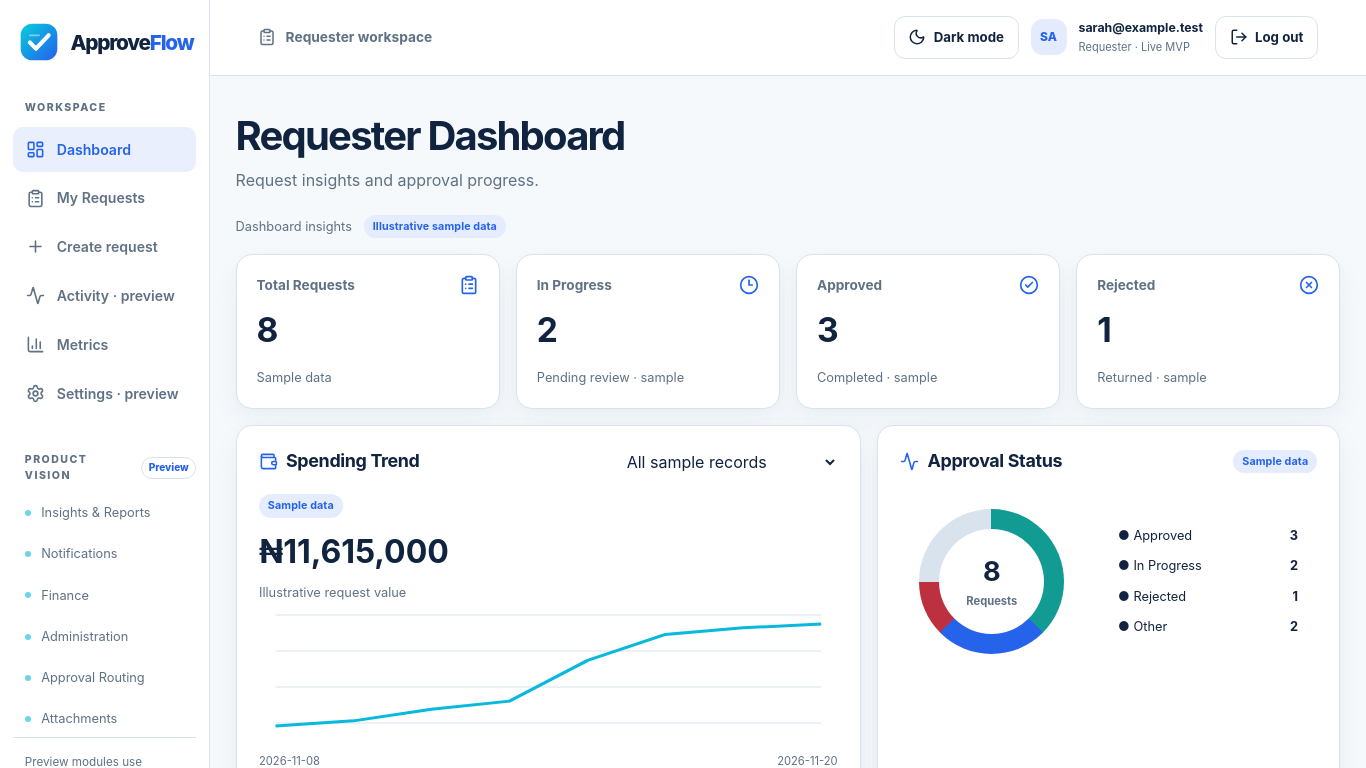
G3 acceptance reconciliation › restores a valid session and renders the empty My Requests page
Expected: the heading "Requester Dashboard" is shown, [236,113,624,159]
Click the link "My Requests" at (85, 198), box [26,188,145,208]
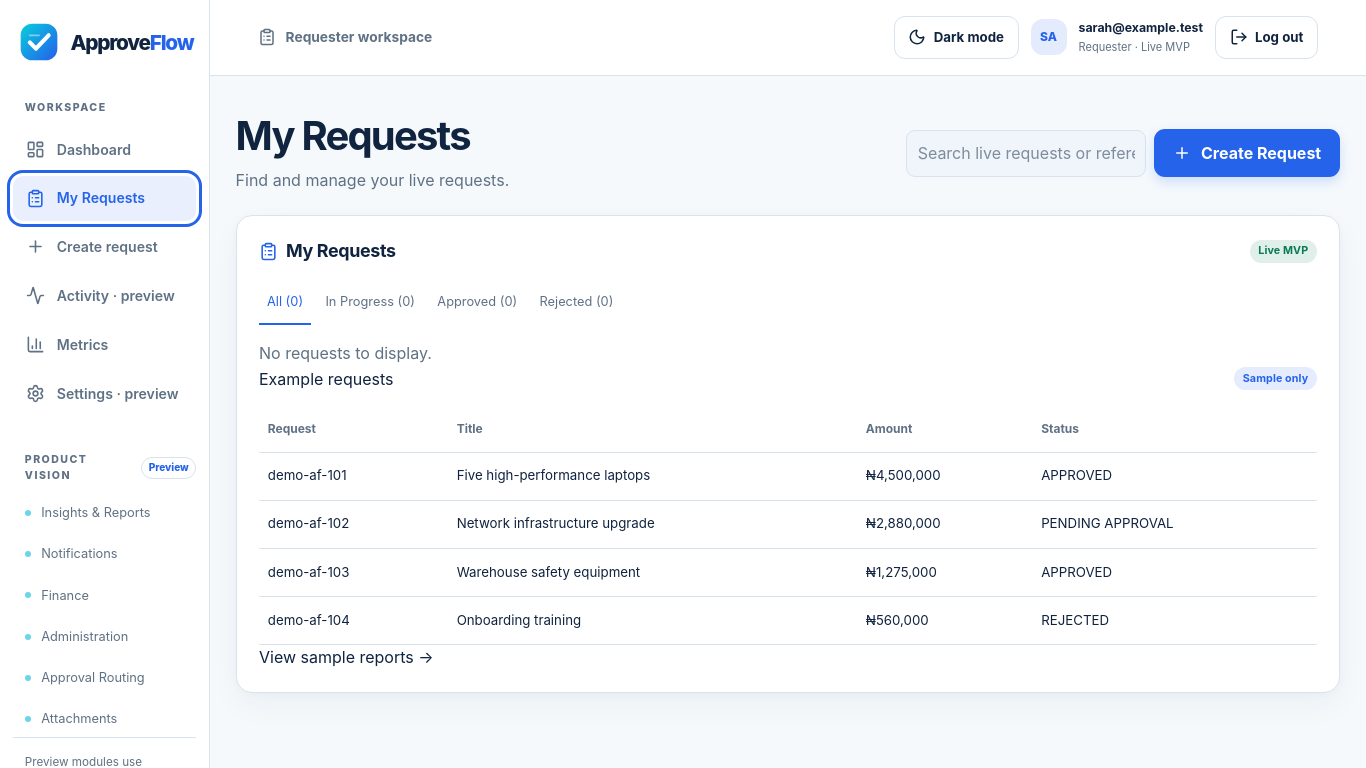
Now the text "No requests to display." is shown, box [259,343,432,363]
